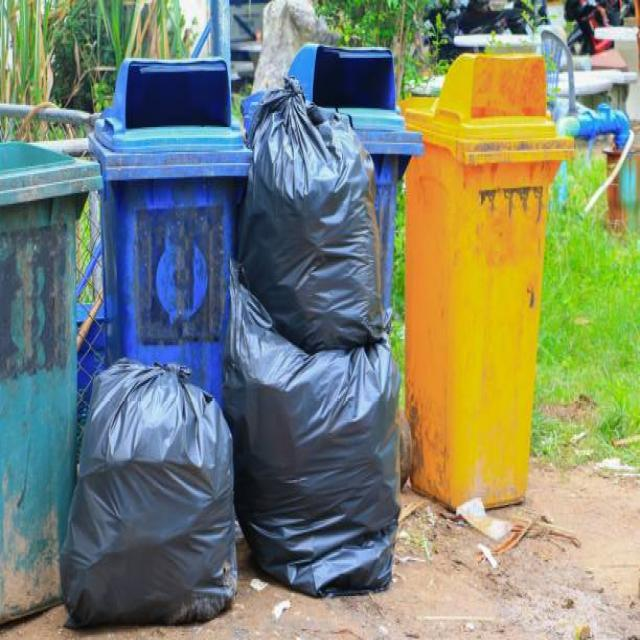garbage: (54, 76, 399, 634)
